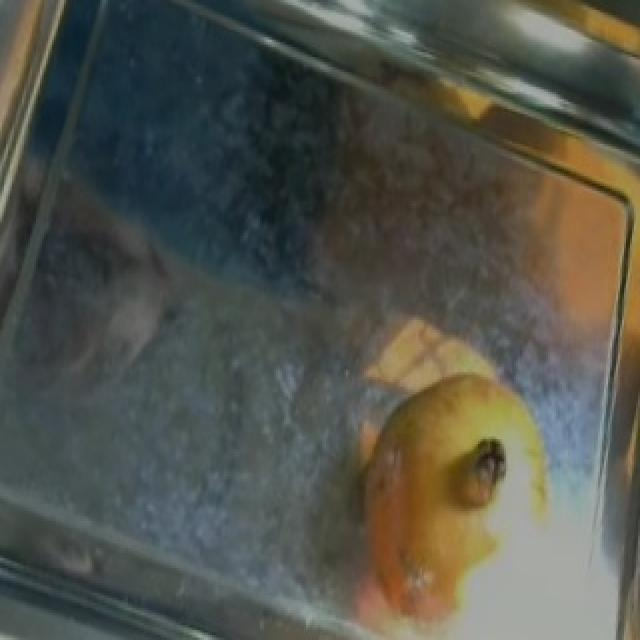fruit: (336, 350, 572, 548)
